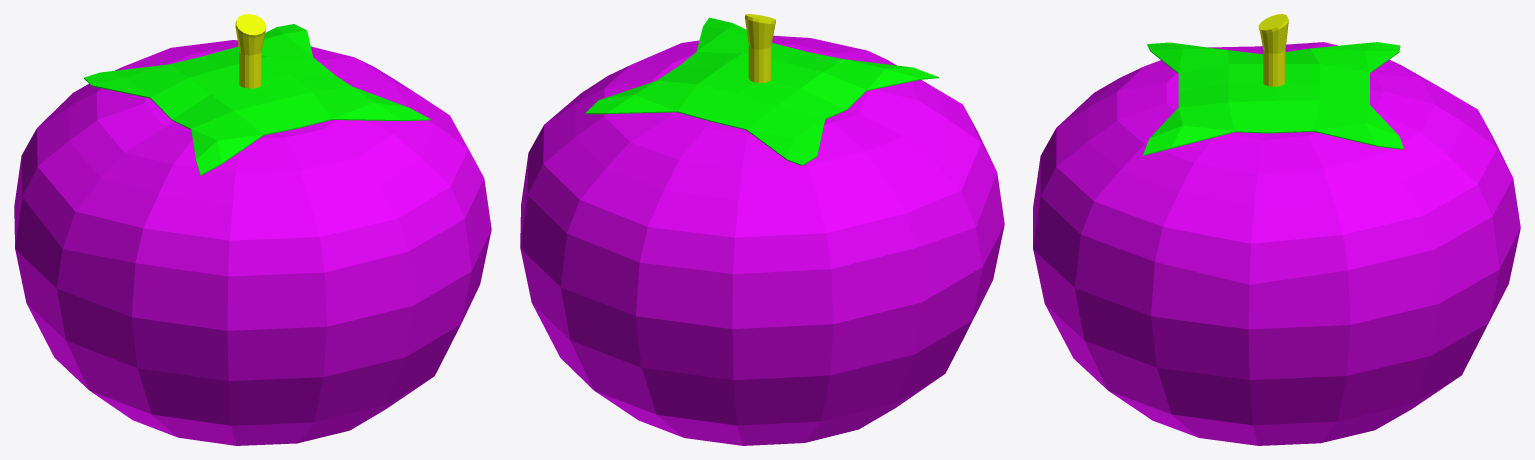
The model's file is tomate.fbx.
The picture shows the model from 3 angles, left to right: view 1: azimuth 30°, elevation 25°; view 2: azimuth 150°, elevation 25°; view 3: azimuth 270°, elevation 25°; orthographic projection.
Parts seen in each view (by area): view 1: Sphere, Plane, Cylinder; view 2: Sphere, Plane, Cylinder; view 3: Sphere, Plane, Cylinder.
Part boxes in pixels (box(x1,y1,x2,y2)): Sphere: box(14, 40, 491, 445); Plane: box(84, 24, 430, 175); Cylinder: box(235, 14, 266, 88); Sphere: box(520, 35, 1004, 445); Plane: box(585, 17, 938, 165); Cylinder: box(745, 14, 775, 82); Sphere: box(1033, 42, 1520, 445); Plane: box(1143, 42, 1403, 155); Cylinder: box(1258, 14, 1288, 86).
Bounding box in the file's own units: 216 × 190 × 219.
